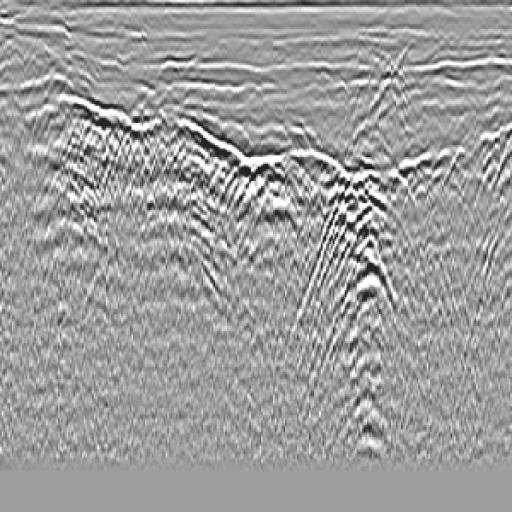metalic: (213, 122, 326, 290)
